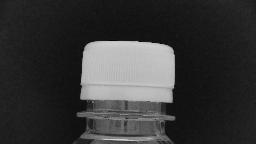Loose Cap: (74, 82, 180, 124)
